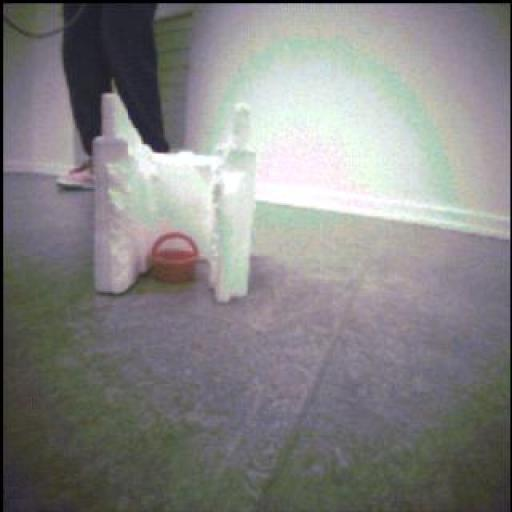Bucket: (152, 233, 200, 284)
